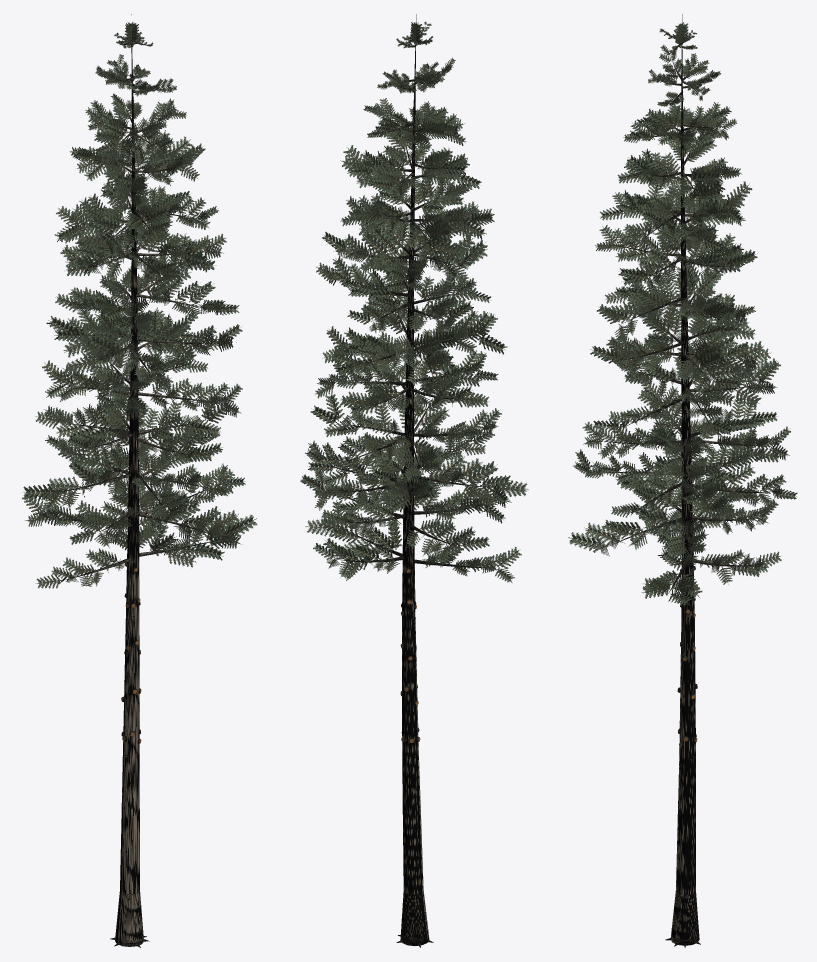
The model's file is Sitka_Mature_03_HighPruned_Recent_LOD0.fbx.
The picture shows the model from 3 angles, left to right: view 1: azimuth 30°, elevation 25°; view 2: azimuth 150°, elevation 25°; view 3: azimuth 270°, elevation 25°; orthographic projection.
Visible parts, largest first — view 1: Sitka_Mature_03_HighPruned_Recent_LOD0; view 2: Sitka_Mature_03_HighPruned_Recent_LOD0; view 3: Sitka_Mature_03_HighPruned_Recent_LOD0.
Part boxes in pixels (bbox=[...]): Sitka_Mature_03_HighPruned_Recent_LOD0: bbox=[22, 14, 257, 947]; Sitka_Mature_03_HighPruned_Recent_LOD0: bbox=[300, 14, 528, 947]; Sitka_Mature_03_HighPruned_Recent_LOD0: bbox=[568, 14, 797, 947].
Size of the model in its own units: 607 by 2400 by 565.
Materials: 3 (3 with a texture image).
